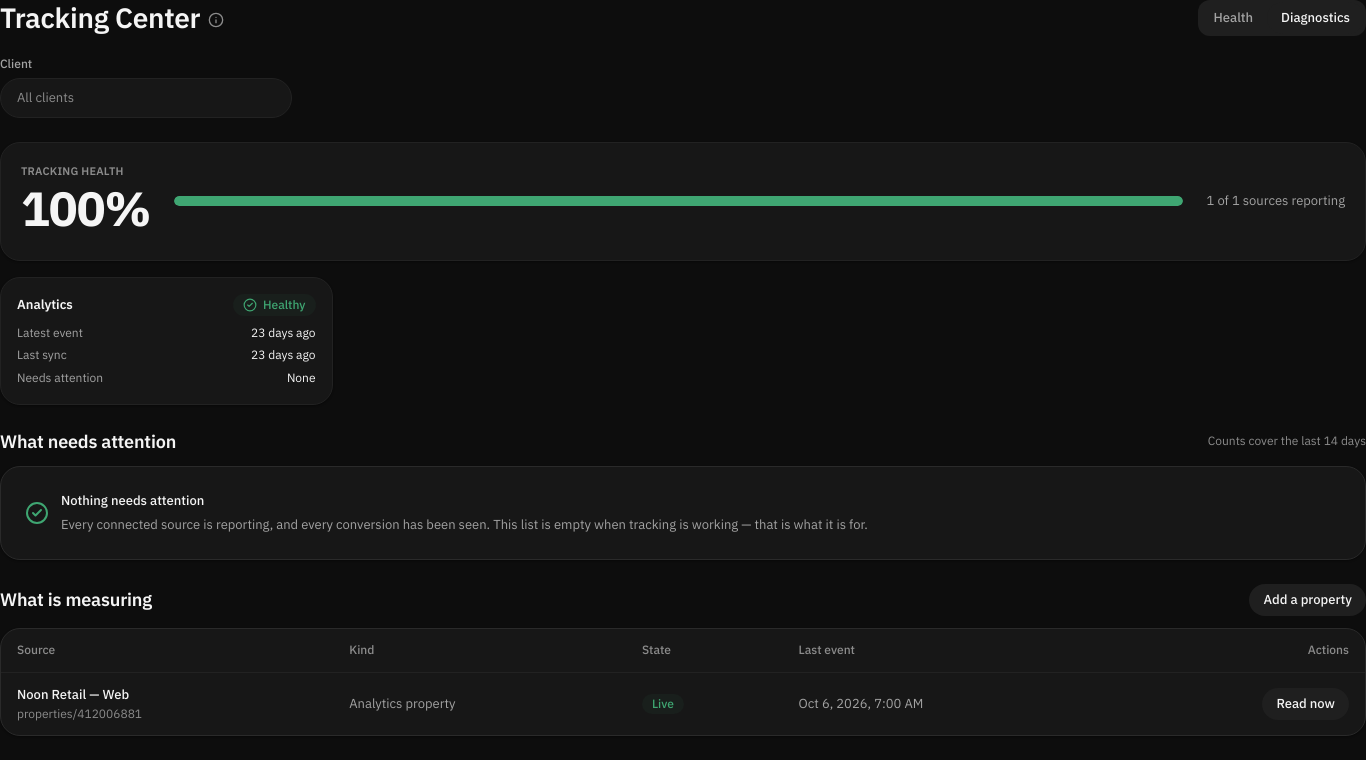
Test: the tracking centre › reports a sync's caveats rather than just saying it worked
This screenshot has width=1366, height=760.
Click the button "Read now" at (1306, 704), box [1262,688,1349,720]
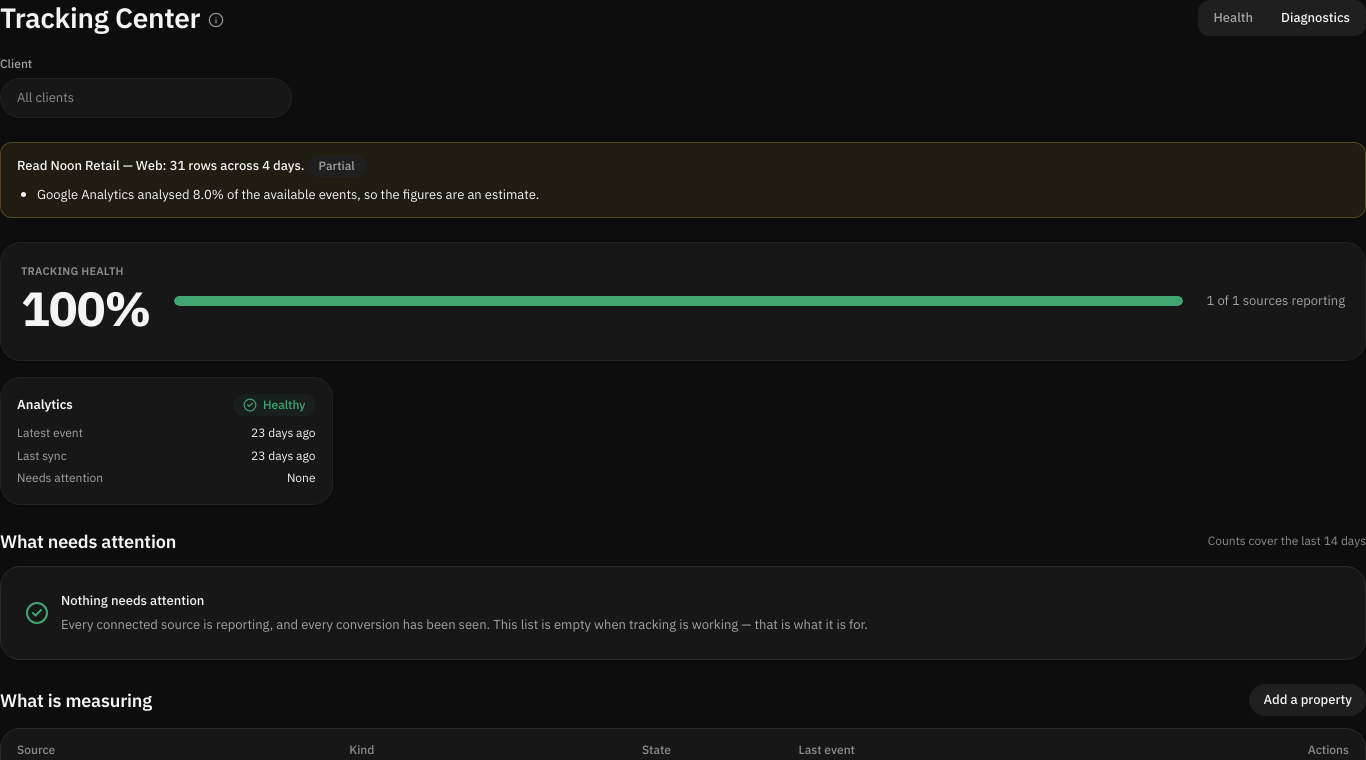
Result: the list item "analysed 8.0% of the available events" is shown at [37,185,539,204]
